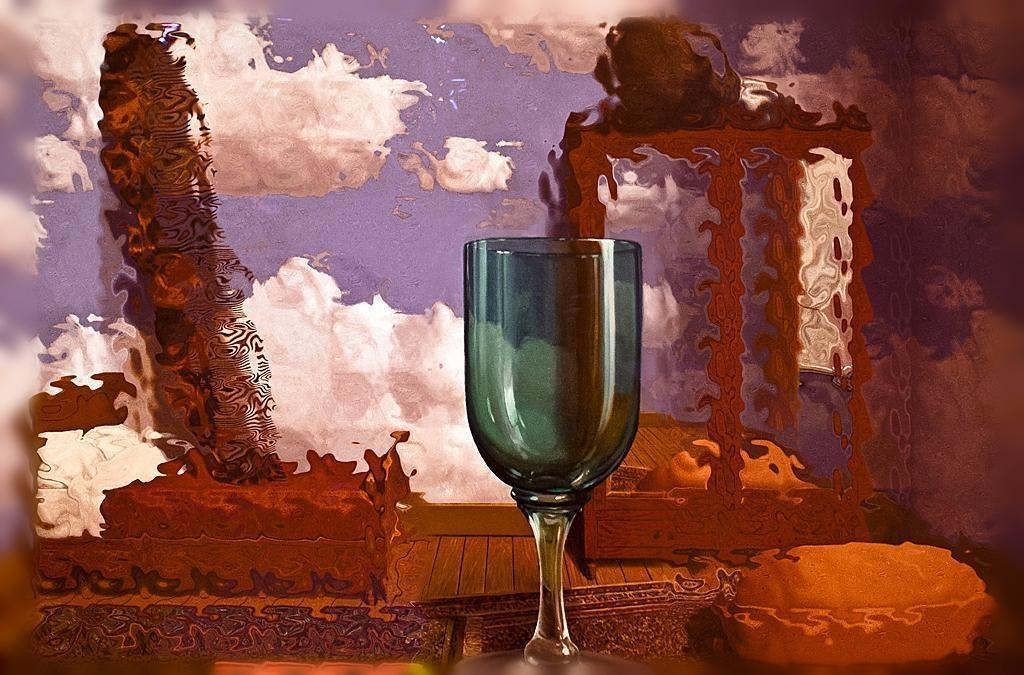glass-wine: (461, 240, 643, 674)
